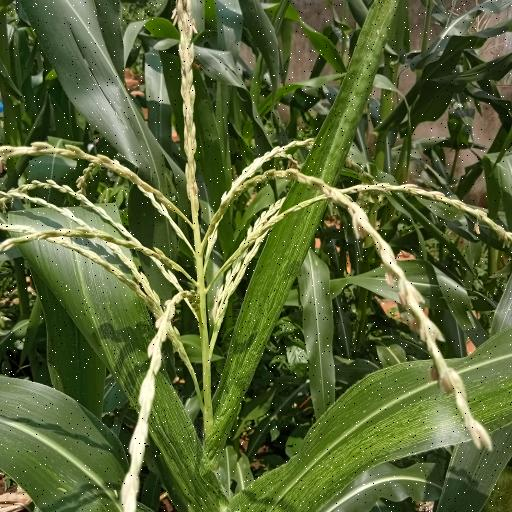Corn_Streak: (0, 213, 230, 509), (246, 334, 512, 509)
